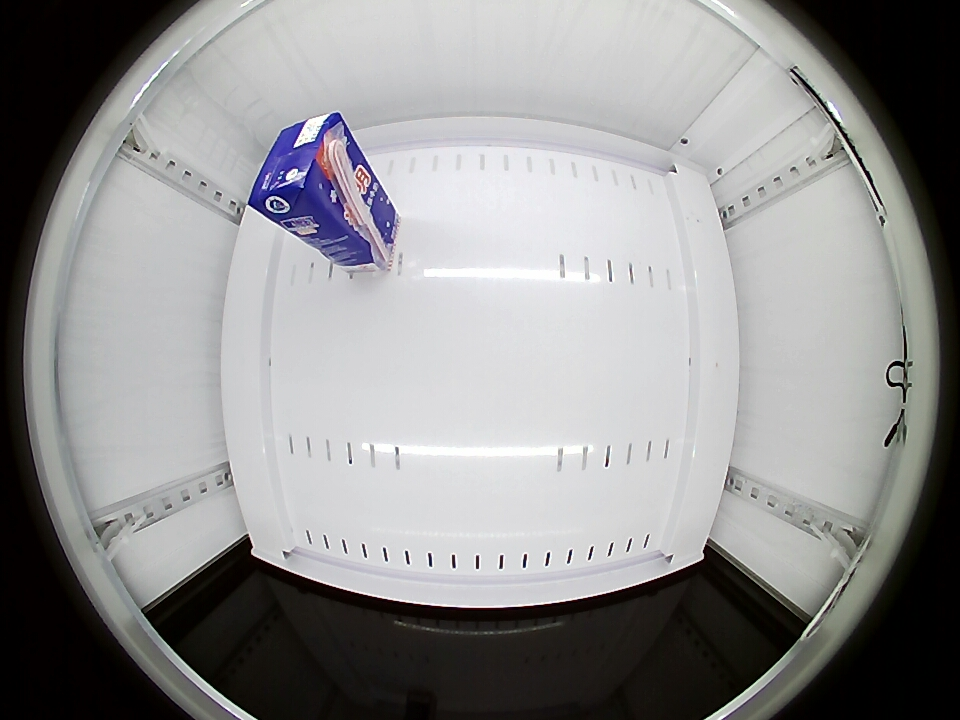bingqilinniunai: (248, 111, 354, 228)
